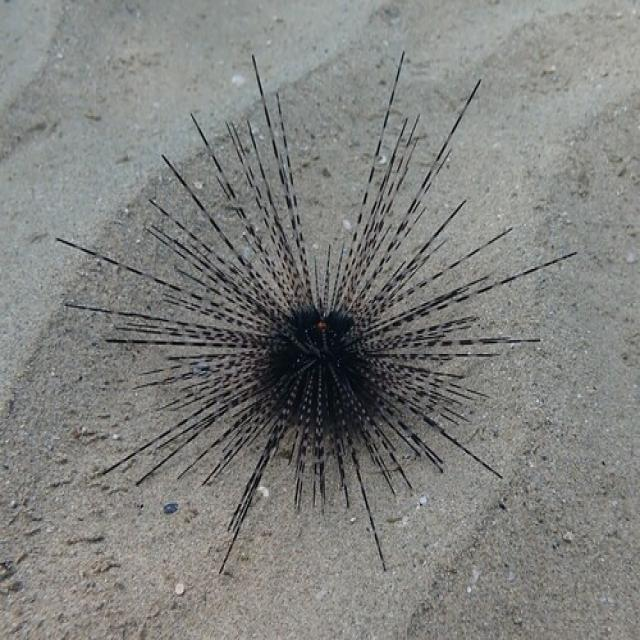Urchin: (55, 52, 576, 574)
